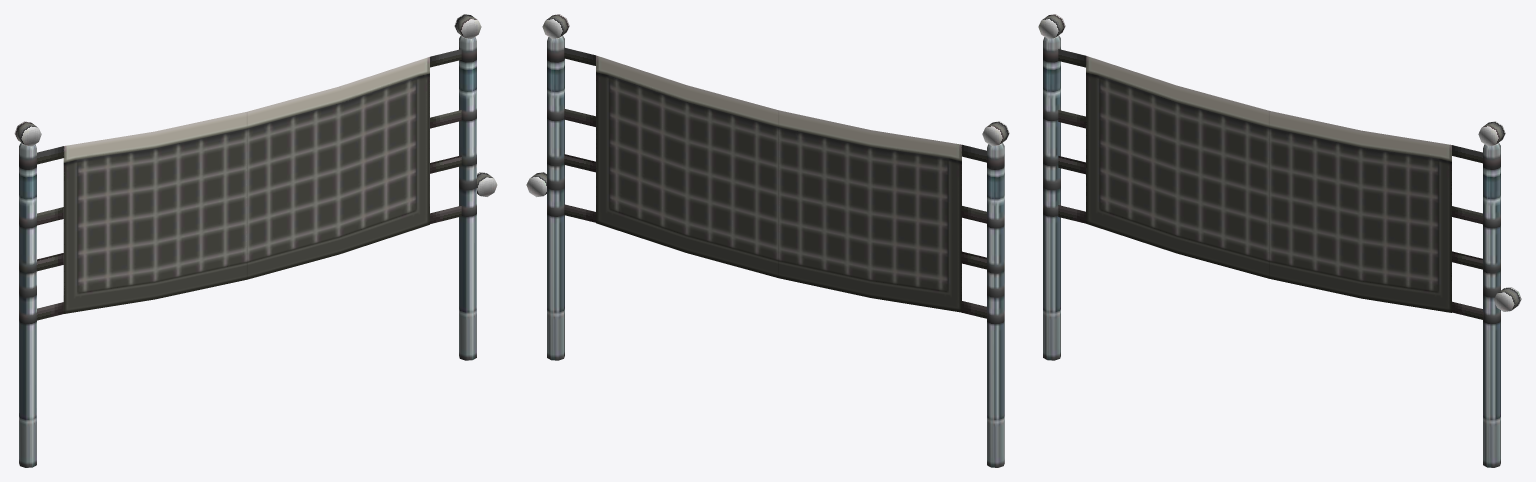
Rendered from int_sch_net.dae.
3 renders of one model, left to right at view 1: azimuth 30°, elevation 25°; view 2: azimuth 150°, elevation 25°; view 3: azimuth 330°, elevation 25°, orthographic.
Visible parts, largest first — view 1: int_sch_net; view 2: int_sch_net; view 3: int_sch_net.
Part boxes in pixels (x1,y1,x2,y2): int_sch_net: (14, 14, 497, 467); int_sch_net: (526, 14, 1009, 467); int_sch_net: (1038, 14, 1521, 467).
Bounding box in the file's own units: 60.66 × 41.45 × 2.07.
3 materials, 3 textured.
